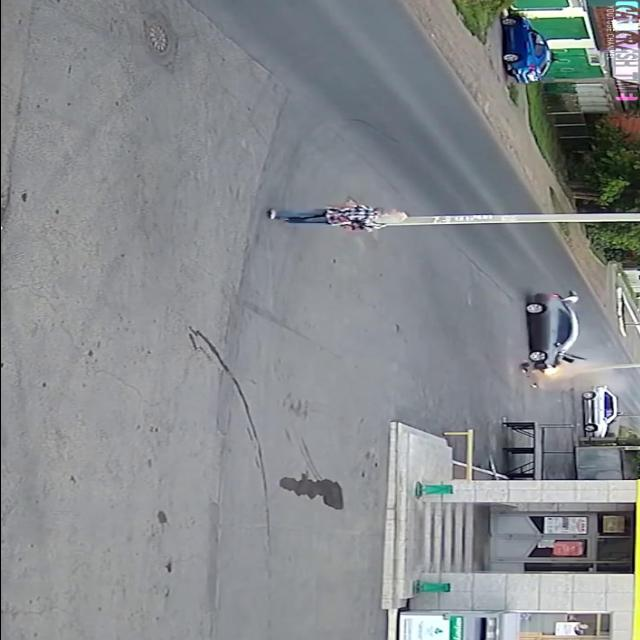accident: (506, 286, 598, 389)
